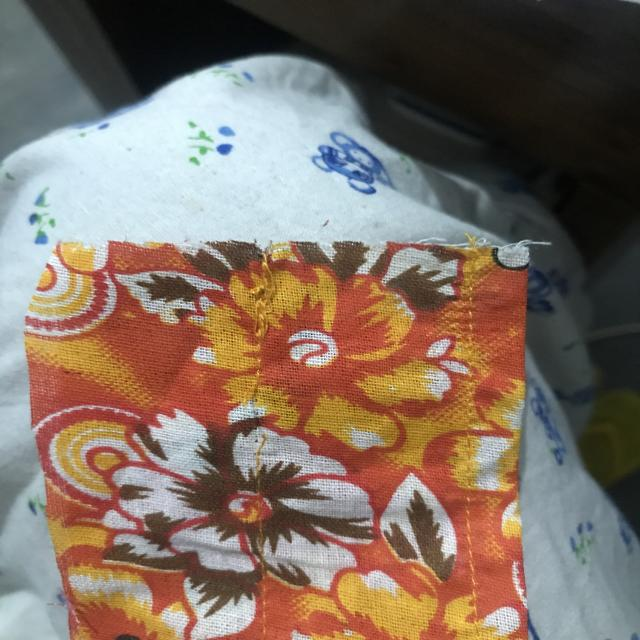broken: (233, 360, 277, 466)
